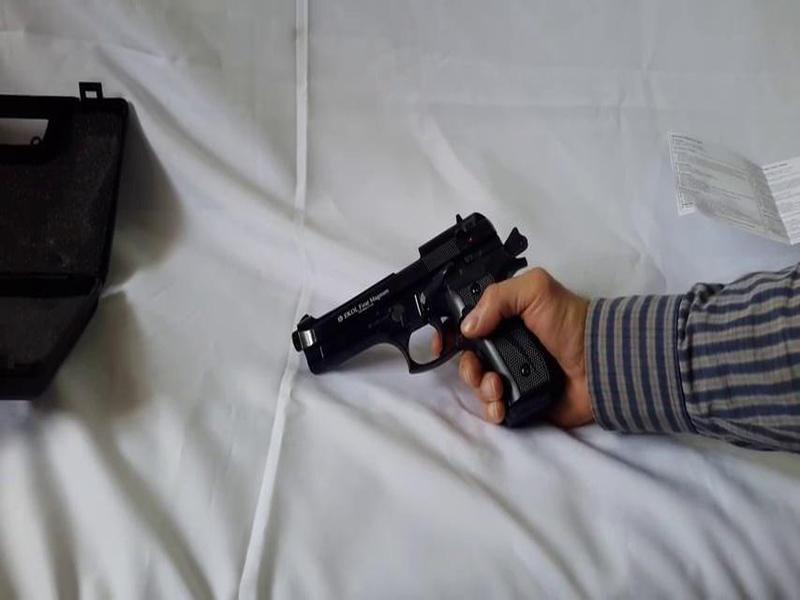Pistola: (276, 196, 573, 439)
